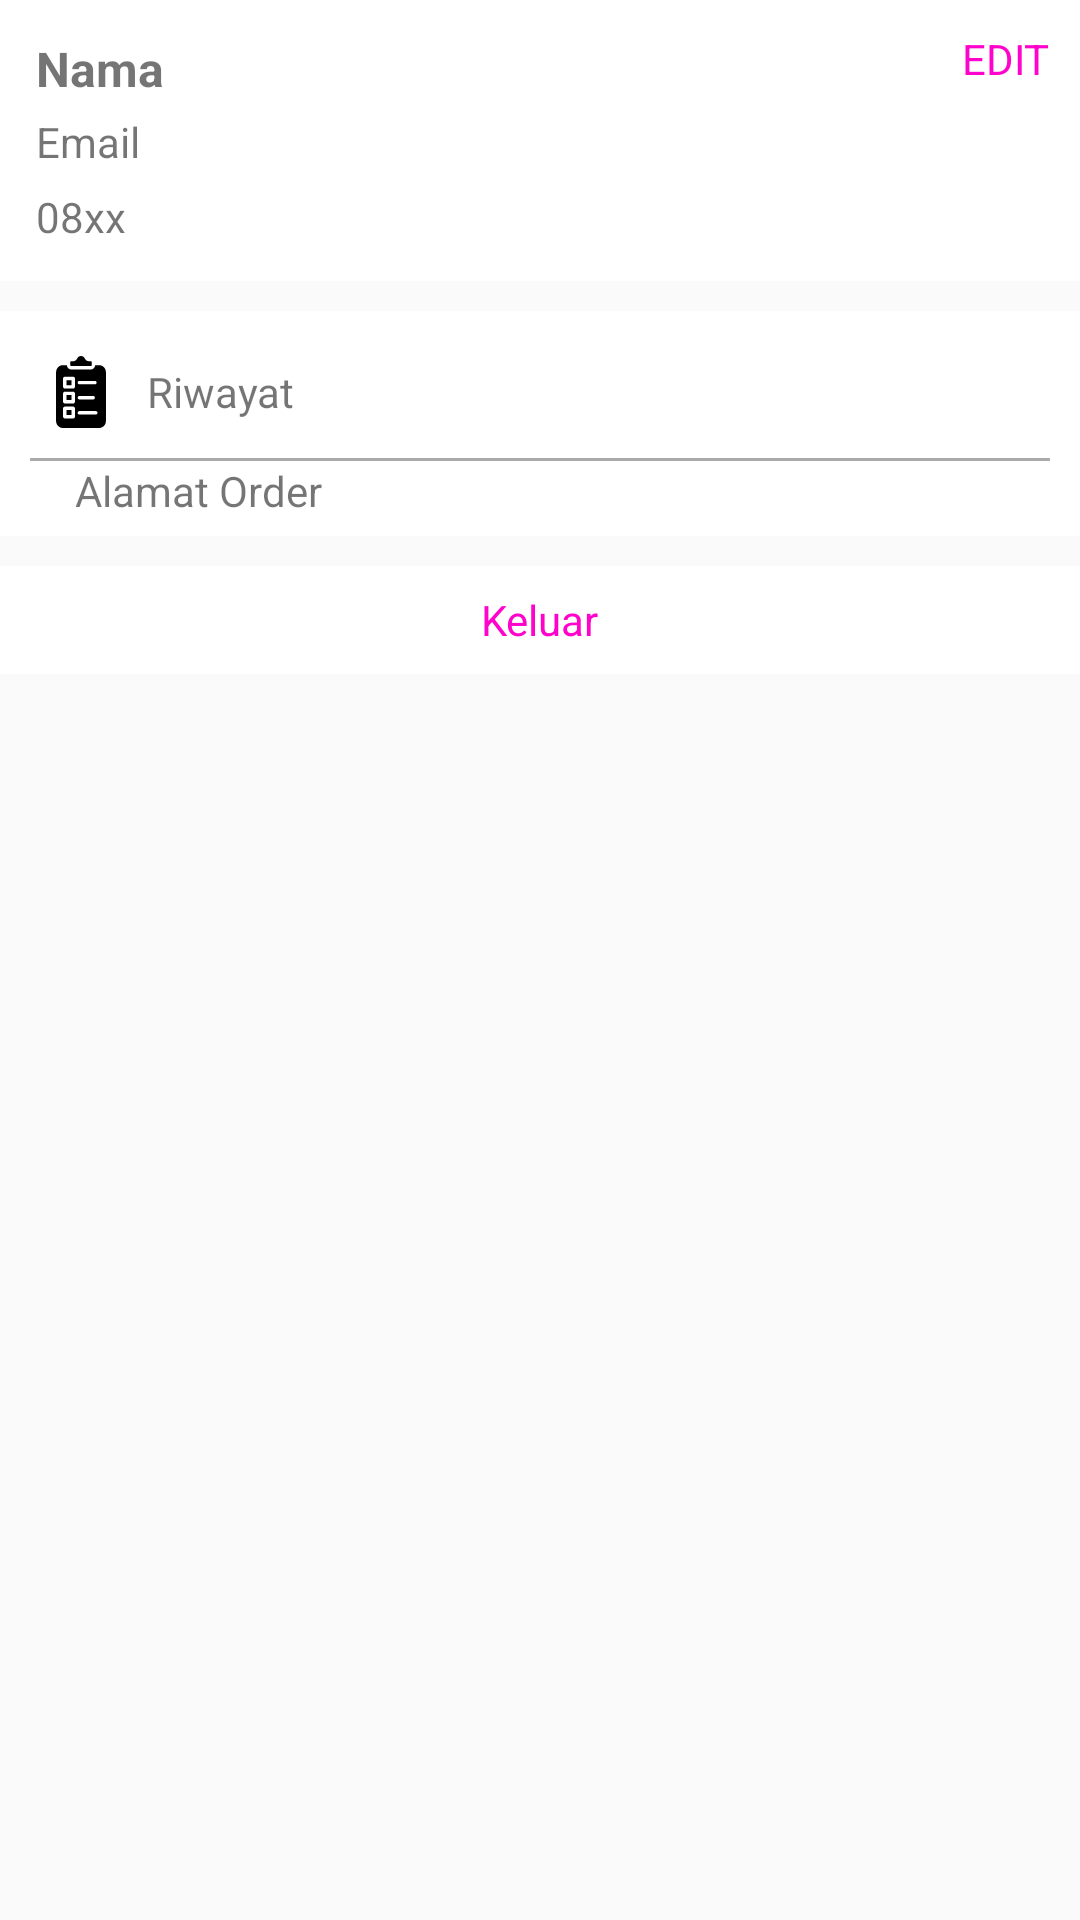

Screen size 1080 x 1920. Icon name, then its box in pixels as (x1, y1, x2, y2):
clipboard with list: (56, 356, 106, 428)
